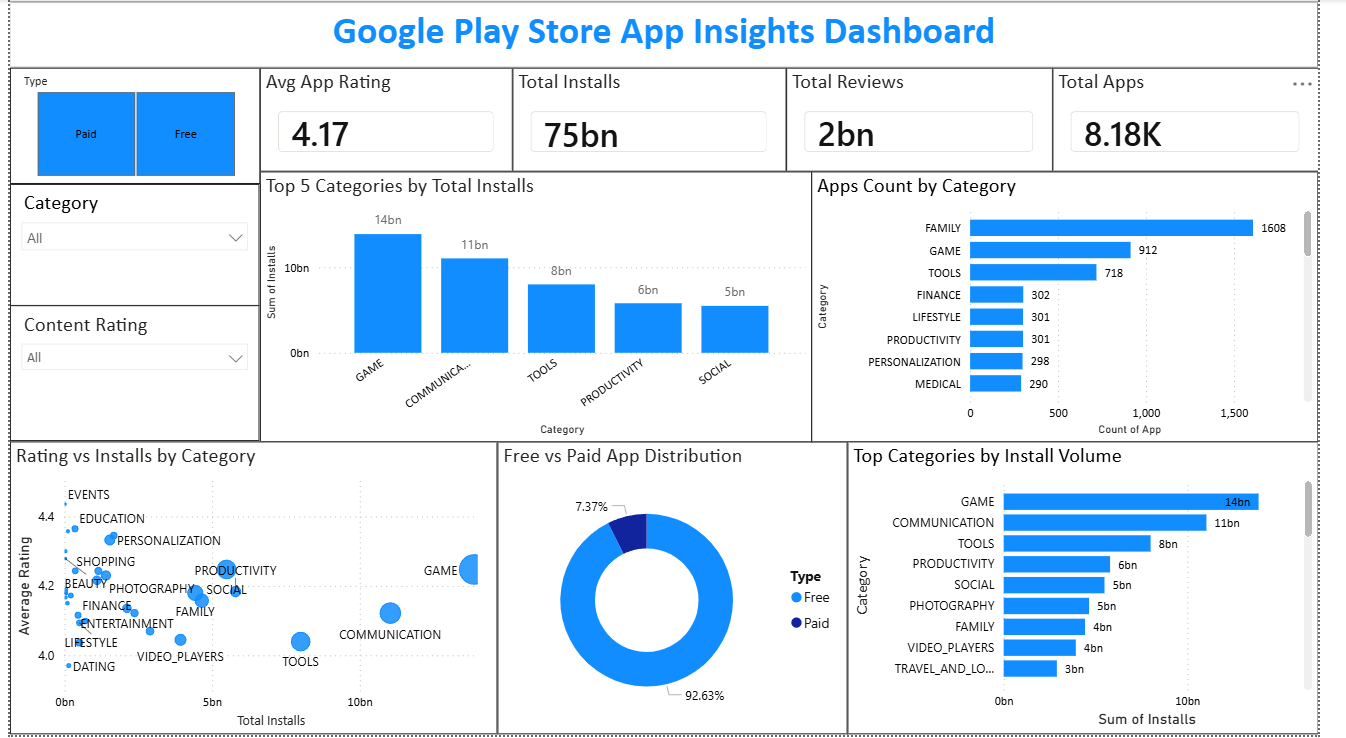

What the dashboard file says about the page in this screenshot:
{"tool":"powerbi","page":{"name":"Page 1","canvas":[1280,720],"ordinal":0},"visuals":[{"type":"cardVisual","fields":{"Data":["googleplaystore.Total Installs"]},"box":[518.5,36.7,182.2,79.5],"z":0},{"type":"cardVisual","fields":{"Data":["googleplaystore.Total Reviews"]},"box":[775.3,36.7,181,79.5],"z":1000},{"type":"cardVisual","fields":{"Data":["googleplaystore.Total Apps"]},"box":[1029.6,36.7,181,79.5],"z":2000},{"type":"cardVisual","fields":{"Data":["googleplaystore.Average Rating"]},"box":[243.3,31.8,179.8,89.3],"z":3000},{"type":"donutChart","title":"App Distribution by Type","fields":{"Category":["googleplaystore.Type"],"Y":["googleplaystore.Total Apps"]},"box":[189.2,138.4,418.1,274.1],"z":4000},{"type":"clusteredBarChart","fields":{"Category":["googleplaystore.Category"],"Y":["googleplaystore.Average Rating"]},"box":[189.5,412.1,420.7,308.2],"z":5000},{"type":"clusteredColumnChart","title":"Top 5 Categories by Installs","fields":{"Category":["googleplaystore.Category"],"Y":["googleplaystore.Total Installs"]},"box":[607.7,139.4,671.3,272.7],"z":6000},{"type":"scatterChart","fields":{"Series":["googleplaystore.Type"],"Size":["Sum(googleplaystore.Reviews)"],"Y":["Avg(googleplaystore.Rating)"],"X":["googleplaystore.Installs"]},"box":[610.2,412.1,670.1,308.2],"z":7000},{"type":"shape","box":[0,0,189.5,720.2],"z":8000},{"type":"slicer","fields":{"Values":["googleplaystore.Category"]},"box":[1.2,138.2,188.3,221.3],"z":9000},{"type":"slicer","fields":{"Values":["googleplaystore.Type"]},"box":[0,358.3,189.5,107.6],"z":10000},{"type":"slicer","fields":{"Values":["googleplaystore.Content Rating"]},"box":[1.2,467.1,188.3,253.1],"z":11000},{"type":"textbox","box":[244,27.4,178.2,39.8],"z":12000},{"type":"textbox","box":[518.1,27.4,178.2,39.8],"z":13000},{"type":"textbox","box":[775.3,8.6,178.5,36.7],"z":14000},{"type":"textbox","box":[247,8.6,176.1,34.2],"z":15000},{"type":"textbox","box":[514.8,8.6,182.2,36.7],"z":16000},{"type":"textbox","box":[1029.6,8.6,181,36.7],"z":17000},{"type":"image","box":[0,0,189.5,138.2],"z":18000},{"type":"image","box":[365.6,67.3,40.4,34.2],"z":19000},{"type":"image","box":[653,72.1,44,37.9],"z":20000},{"type":"image","box":[1162.9,67.3,37.9,42.8],"z":21000},{"type":"image","box":[903.7,72.1,50.1,37.9],"z":22000}]}

Visuals, with their boxes in screenshot pixels (x1, y1, x2, y2), scaled from the page's 1280x720 canvas onto the 1346x738 screenshot:
cardVisual - googleplaystore.Total Installs: 545, 38, 737, 119
cardVisual - googleplaystore.Total Reviews: 815, 38, 1006, 119
cardVisual - googleplaystore.Total Apps: 1083, 38, 1273, 119
cardVisual - googleplaystore.Average Rating: 256, 33, 445, 124
"App Distribution by Type" donutChart: 199, 142, 639, 423
clusteredBarChart - googleplaystore.Category x googleplaystore.Average Rating: 199, 422, 642, 737
"Top 5 Categories by Installs" clusteredColumnChart: 639, 143, 1345, 422
scatterChart - googleplaystore.Type x Sum(googleplaystore.Reviews): 642, 422, 1345, 737
shape: 0, 0, 199, 737
slicer - googleplaystore.Category: 1, 142, 199, 368
slicer - googleplaystore.Type: 0, 367, 199, 478
slicer - googleplaystore.Content Rating: 1, 479, 199, 737
textbox: 257, 28, 444, 69
textbox: 545, 28, 732, 69
textbox: 815, 9, 1003, 46
textbox: 260, 9, 445, 44
textbox: 541, 9, 733, 46
textbox: 1083, 9, 1273, 46
image: 0, 0, 199, 142
image: 384, 69, 427, 104
image: 687, 74, 733, 113
image: 1223, 69, 1263, 113
image: 950, 74, 1003, 113
